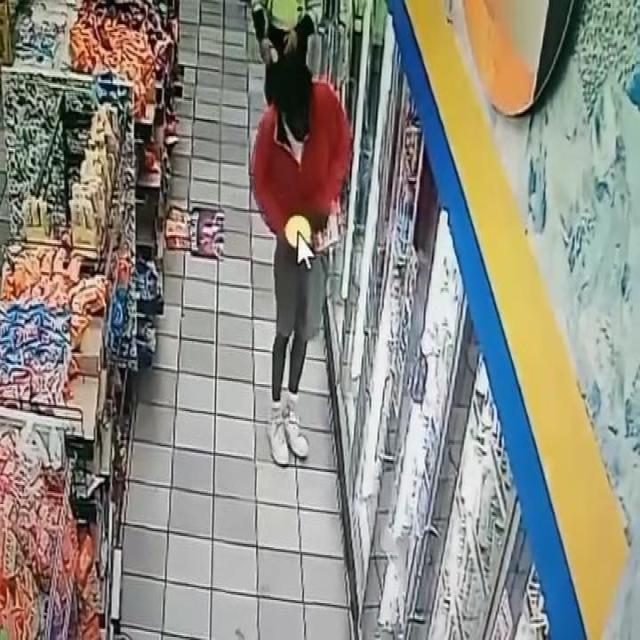Shoplifting: (242, 26, 364, 501)
